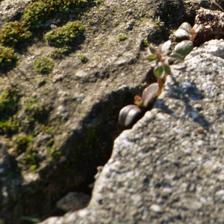Crack: (4, 32, 172, 186)
